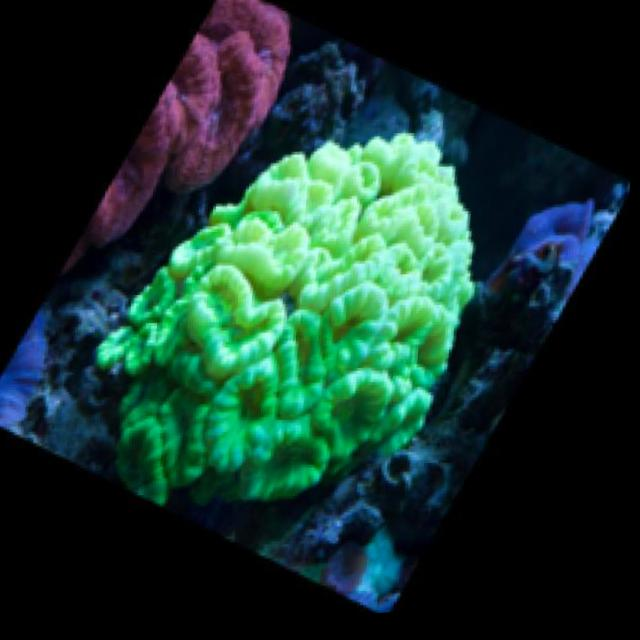Healthy Coral: (86, 120, 489, 525), (70, 0, 295, 276)
